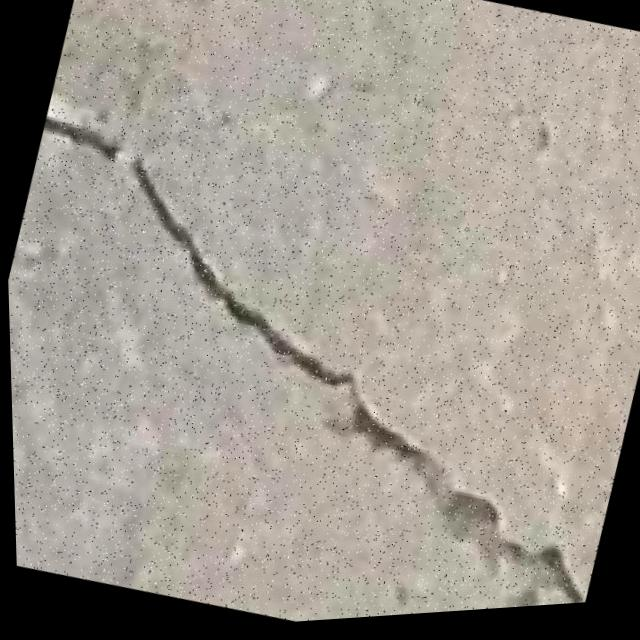Crack: (2, 71, 640, 640)
